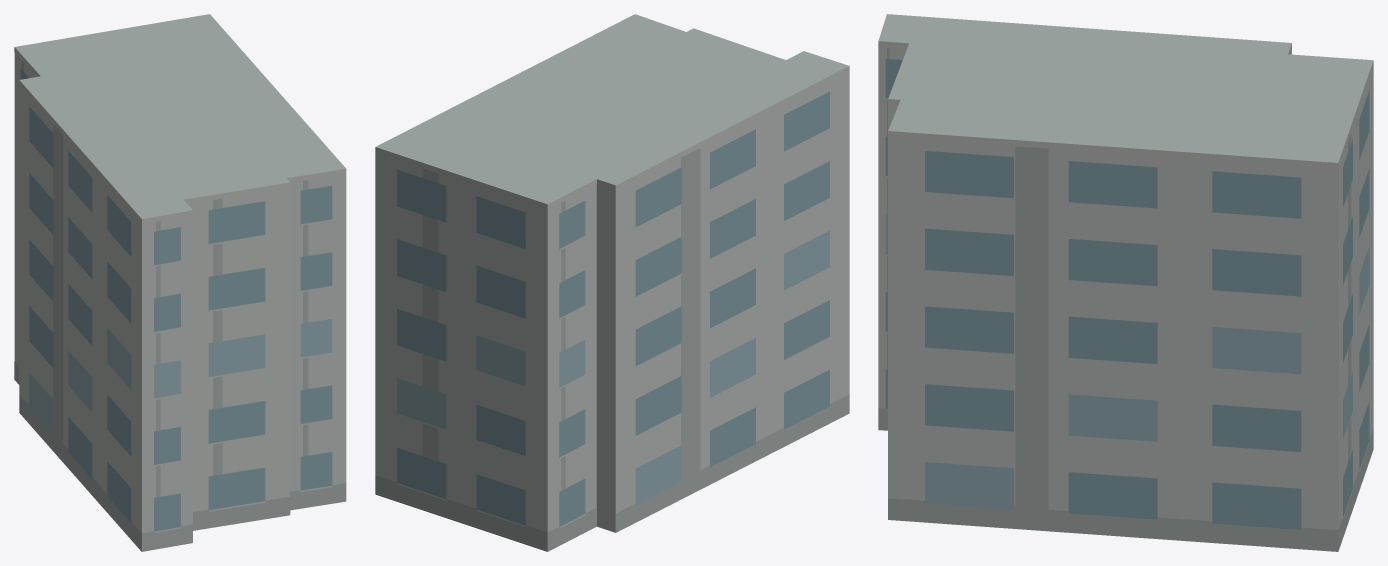
Rendered from survey-upis-32973467.glb.
3 views of the same model, side by side, from view 1: azimuth 30°, elevation 25°; view 2: azimuth 150°, elevation 25°; view 3: azimuth 270°, elevation 25° (orthographic). The views are drawn at different scales.
Parts seen in each view (by area): view 1: survey-upis-32973467.tmp; view 2: survey-upis-32973467.tmp; view 3: survey-upis-32973467.tmp.
Boxes of the visible parts, x1=… form: survey-upis-32973467.tmp: x1=14, y1=14, x2=346, y2=551; survey-upis-32973467.tmp: x1=375, y1=14, x2=849, y2=551; survey-upis-32973467.tmp: x1=878, y1=14, x2=1373, y2=551.
Bounding box in the file's own units: 12.54 × 15.25 × 17.61.
